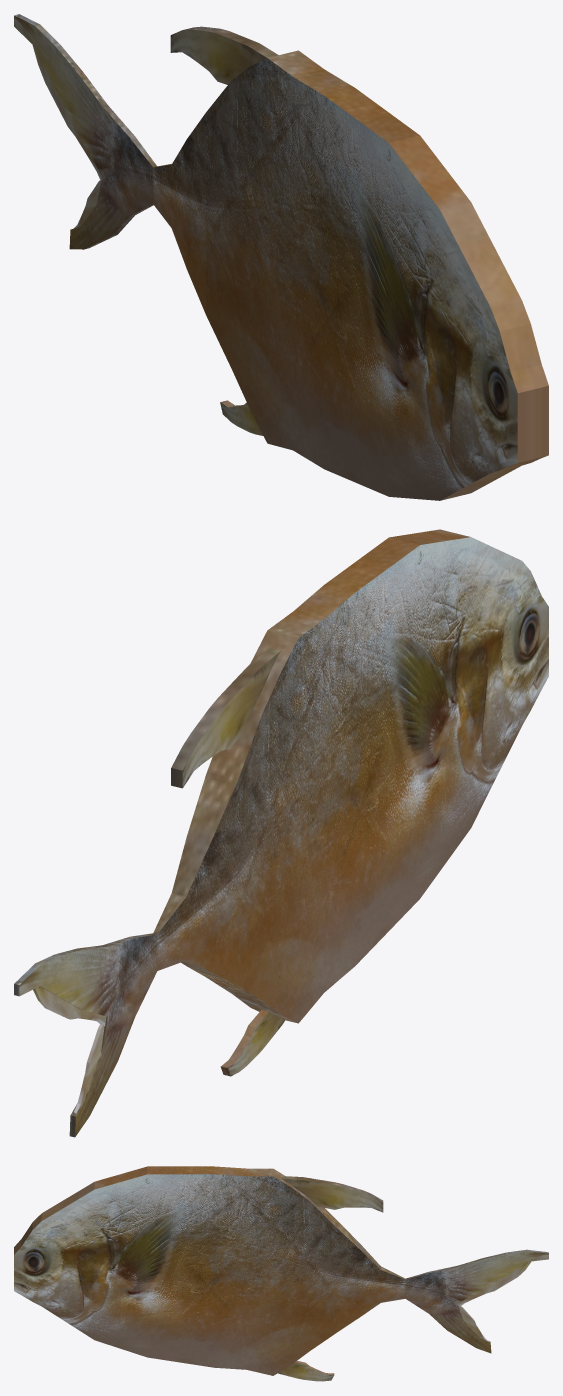
File: FishBoid.fbx
3 renders of one model, top to bottom at view 1: azimuth 30°, elevation 25°; view 2: azimuth 150°, elevation 25°; view 3: azimuth 270°, elevation 25°, orthographic. The views are drawn at different scales.
Parts seen in each view (by area): view 1: Cube, Cube.001, Cube.002, Cube.003; view 2: Cube, Cube.001, Cube.002, Cube.003, Cube.004; view 3: Cube, Cube.001, Cube.002, Cube.003.
Boxes of the visible parts, x1,y1,x2,y2 form: Cube: (14,14,548,500); Cube.001: (170,26,278,84); Cube.002: (220,400,263,435); Cube.003: (32,44,102,181); Cube: (14,529,548,1137); Cube.001: (171,648,280,788); Cube.002: (220,1010,285,1076); Cube.003: (33,986,106,1026); Cube.004: (74,1024,104,1113); Cube: (14,1166,548,1375); Cube.001: (281,1176,383,1212); Cube.002: (278,1360,334,1381); Cube.003: (457,1261,531,1305).
Size of the model in its own units: 0.8223 by 10.23 by 23.6.
